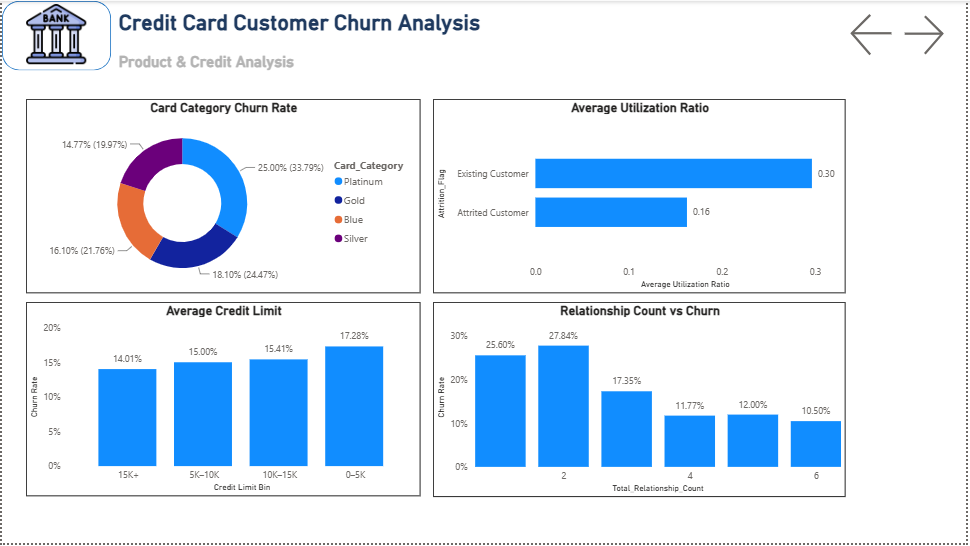

What the dashboard file says about the page in this screenshot:
{"tool":"powerbi","page":{"name":"Product & Credit Analysis","canvas":[1280,720],"ordinal":9},"visuals":[{"type":"shape","box":[0,0,144.9,92.2],"z":0},{"type":"image","box":[4.5,4.5,136.3,80.3],"z":1000},{"type":"textbox","title":"Credit Card Customer Churn Analysis","box":[150.7,11.7,731.7,35.1],"z":2000},{"type":"textbox","title":"Product & Credit Analysis","box":[150.7,68.8,488.8,23.4],"z":3000},{"type":"donutChart","title":"Card Category Churn Rate","fields":{"Category":["BankChurners.Card_Category"],"Y":["BankChurners.Churn Rate"]},"box":[31.8,130.3,524.1,257.5],"z":4000},{"type":"clusteredColumnChart","title":"Relationship Count vs Churn","fields":{"Category":["BankChurners.Total_Relationship_Count"],"Y":["BankChurners.Churn Rate"]},"box":[572.6,399.9,548.4,259],"z":5000},{"type":"clusteredColumnChart","title":"Average Credit Limit","fields":{"Y":["BankChurners.Churn Rate"],"Category":["BankChurners.Credit Limit Bin"]},"box":[32,400,524,258],"z":6000},{"type":"clusteredBarChart","title":"Average Utilization Ratio","fields":{"Category":["BankChurners.Attrition_Flag"],"Y":["BankChurners.Average Utilization Ratio"]},"box":[572.6,130.3,548.4,257.5],"z":7000},{"type":"actionButton","box":[1120.9,10.6,71.2,68.2],"z":8000},{"type":"actionButton","box":[1192.1,10.6,65.1,68.2],"z":9000}]}

Visuals, with their boxes in screenshot pixels (x1, y1, x2, y2), scaled from the page's 1280x720 canvas onto the 970x546 screenshot:
shape: (0,0,110,70)
image: (3,3,107,64)
"Credit Card Customer Churn Analysis" textbox: (114,9,669,35)
"Product & Credit Analysis" textbox: (114,52,485,70)
"Card Category Churn Rate" donutChart: (24,99,421,294)
"Relationship Count vs Churn" clusteredColumnChart: (434,303,850,500)
"Average Credit Limit" clusteredColumnChart: (24,303,421,499)
"Average Utilization Ratio" clusteredBarChart: (434,99,850,294)
actionButton: (849,8,903,60)
actionButton: (903,8,953,60)
